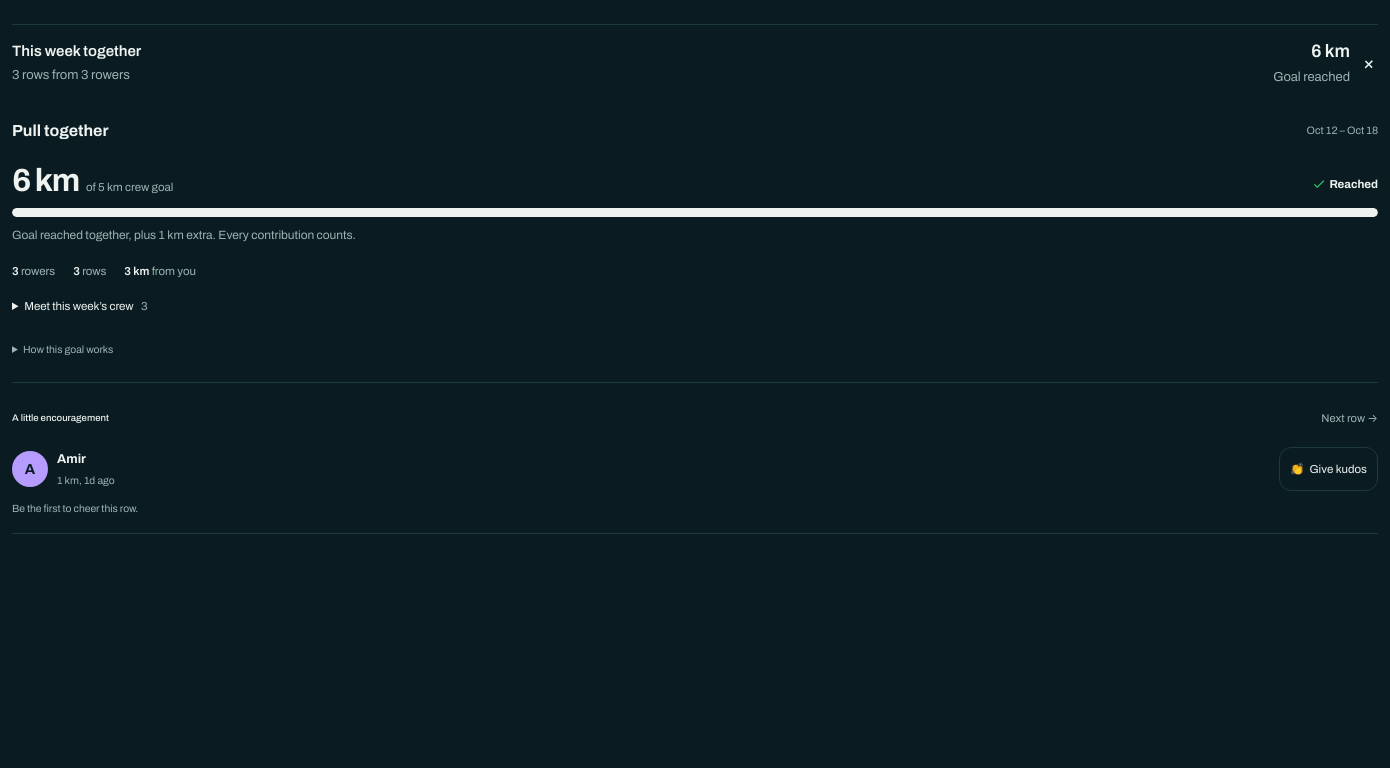
Test: compact presentation starts closed, summarizes real rows, and preserves kudos after opening
Click the button "👏 Give kudos".
click(1328, 469)  # box [1279,447,1378,491]
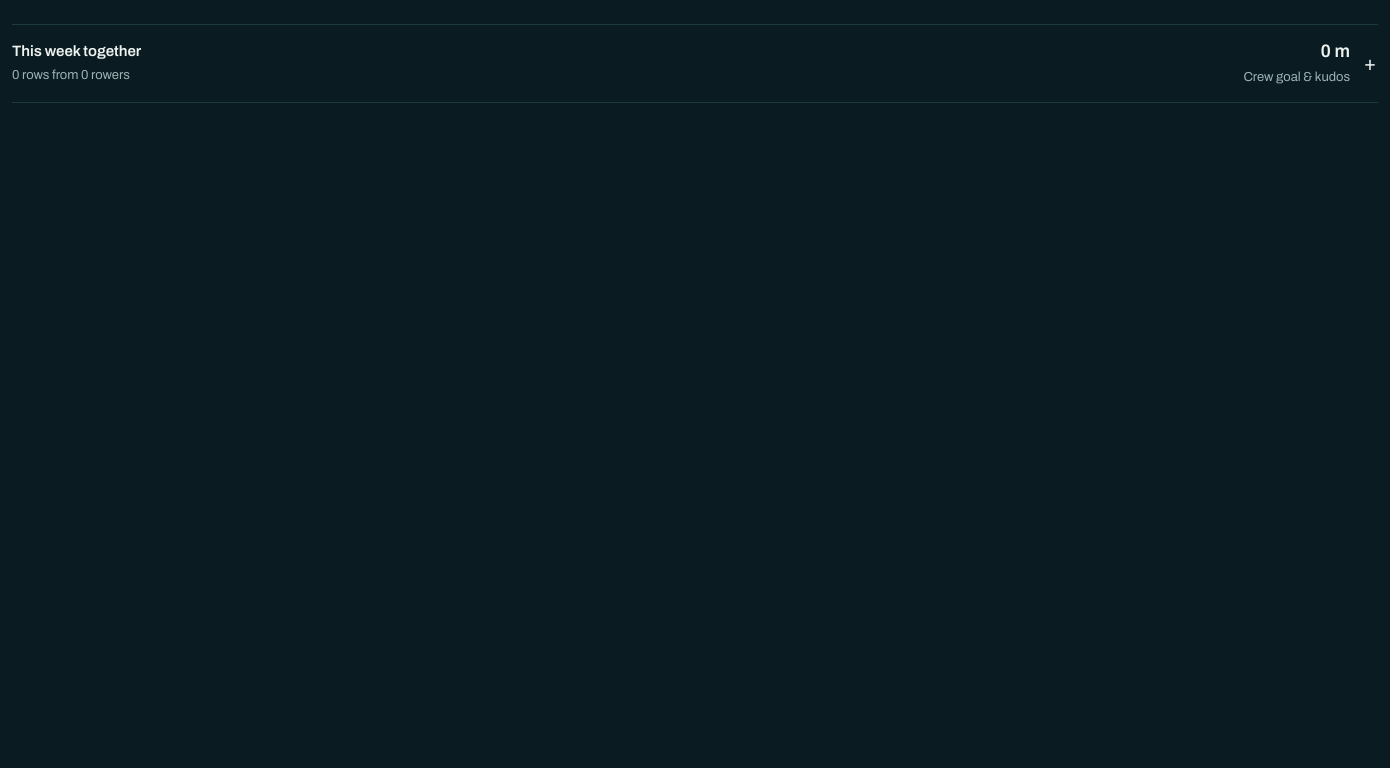
Now the heading shows "0 rows from 0 rowers", box [12,41,1376,84]
Now the heading shows "0 m", box [12,41,1376,84]
Now the element with class "crew-pulse-spotlight" is gone
